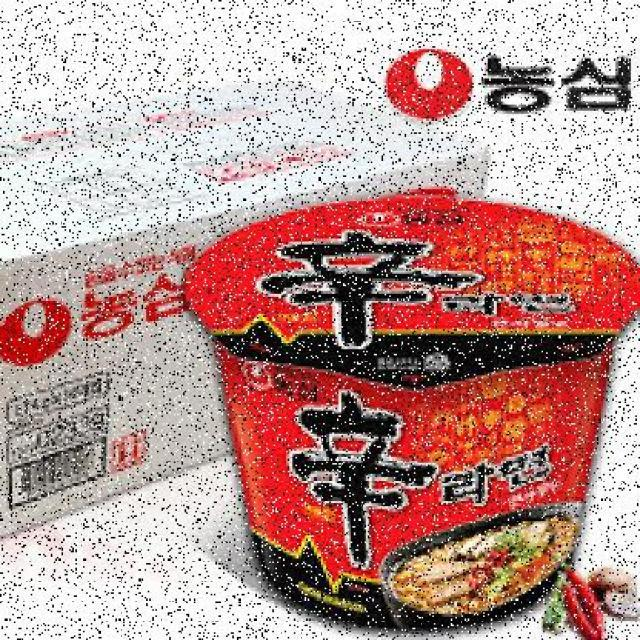Miscellaneous: (184, 194, 636, 623)
